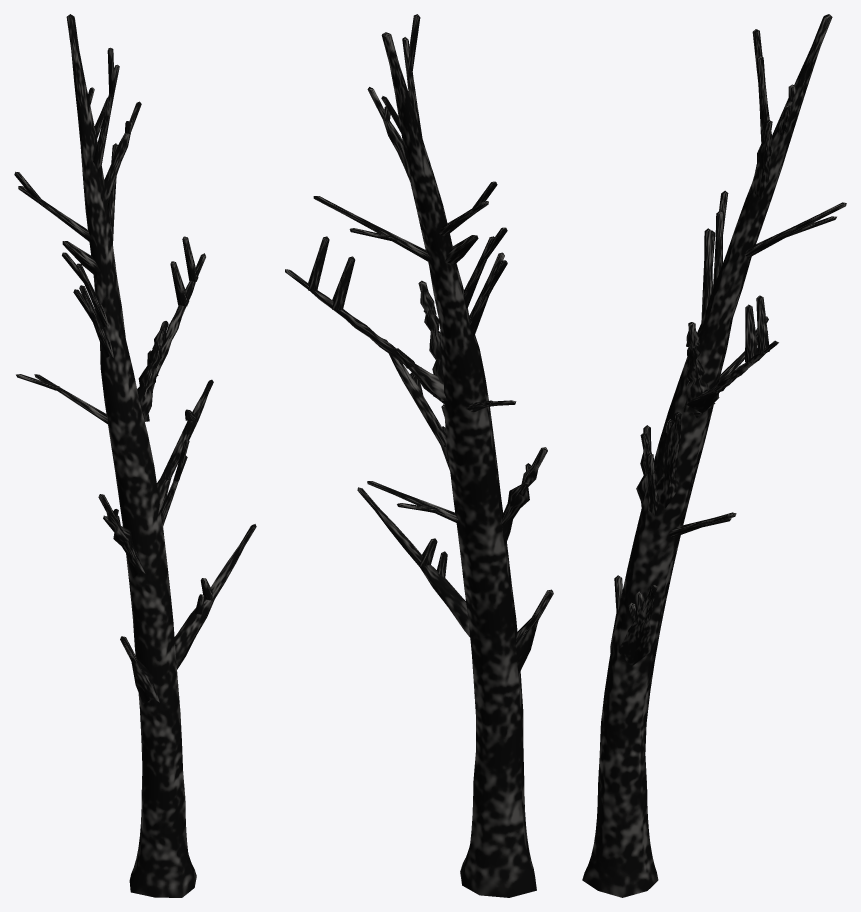
Rendered from CreTree01a.glb.
The picture shows the model from 3 angles, left to right: view 1: azimuth 30°, elevation 25°; view 2: azimuth 150°, elevation 25°; view 3: azimuth 270°, elevation 25°; orthographic projection. The views are drawn at different scales.
Parts seen in each view (by area): view 1: CreTree01a_limbs; view 2: CreTree01a_limbs; view 3: CreTree01a_limbs.
Part boxes in pixels (bbox=[...]): CreTree01a_limbs: bbox=[14, 14, 256, 897]; CreTree01a_limbs: bbox=[285, 14, 553, 897]; CreTree01a_limbs: bbox=[582, 14, 846, 897].
Bounding box in the file's own units: 2.48 × 9.74 × 2.69.
Materials: 1 (1 with a texture image).
